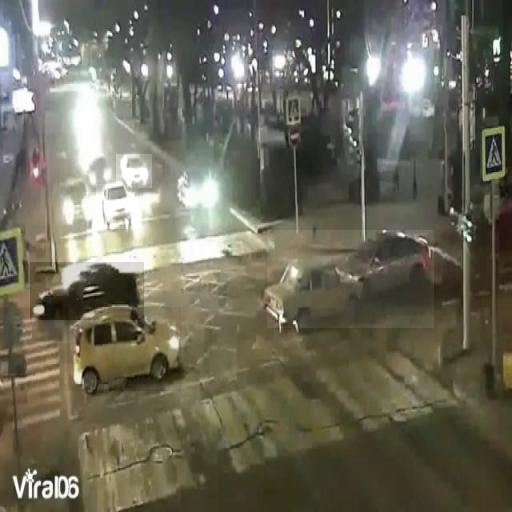小汽车: (67, 307, 181, 391), (30, 262, 144, 320), (96, 184, 138, 229), (116, 154, 152, 188)
小汽车撞小汽车: (267, 230, 434, 328)
